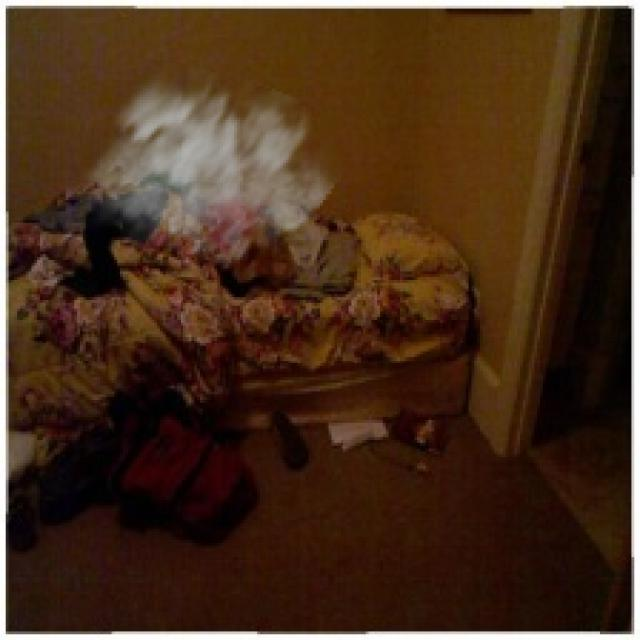smoke: (74, 46, 349, 271)
